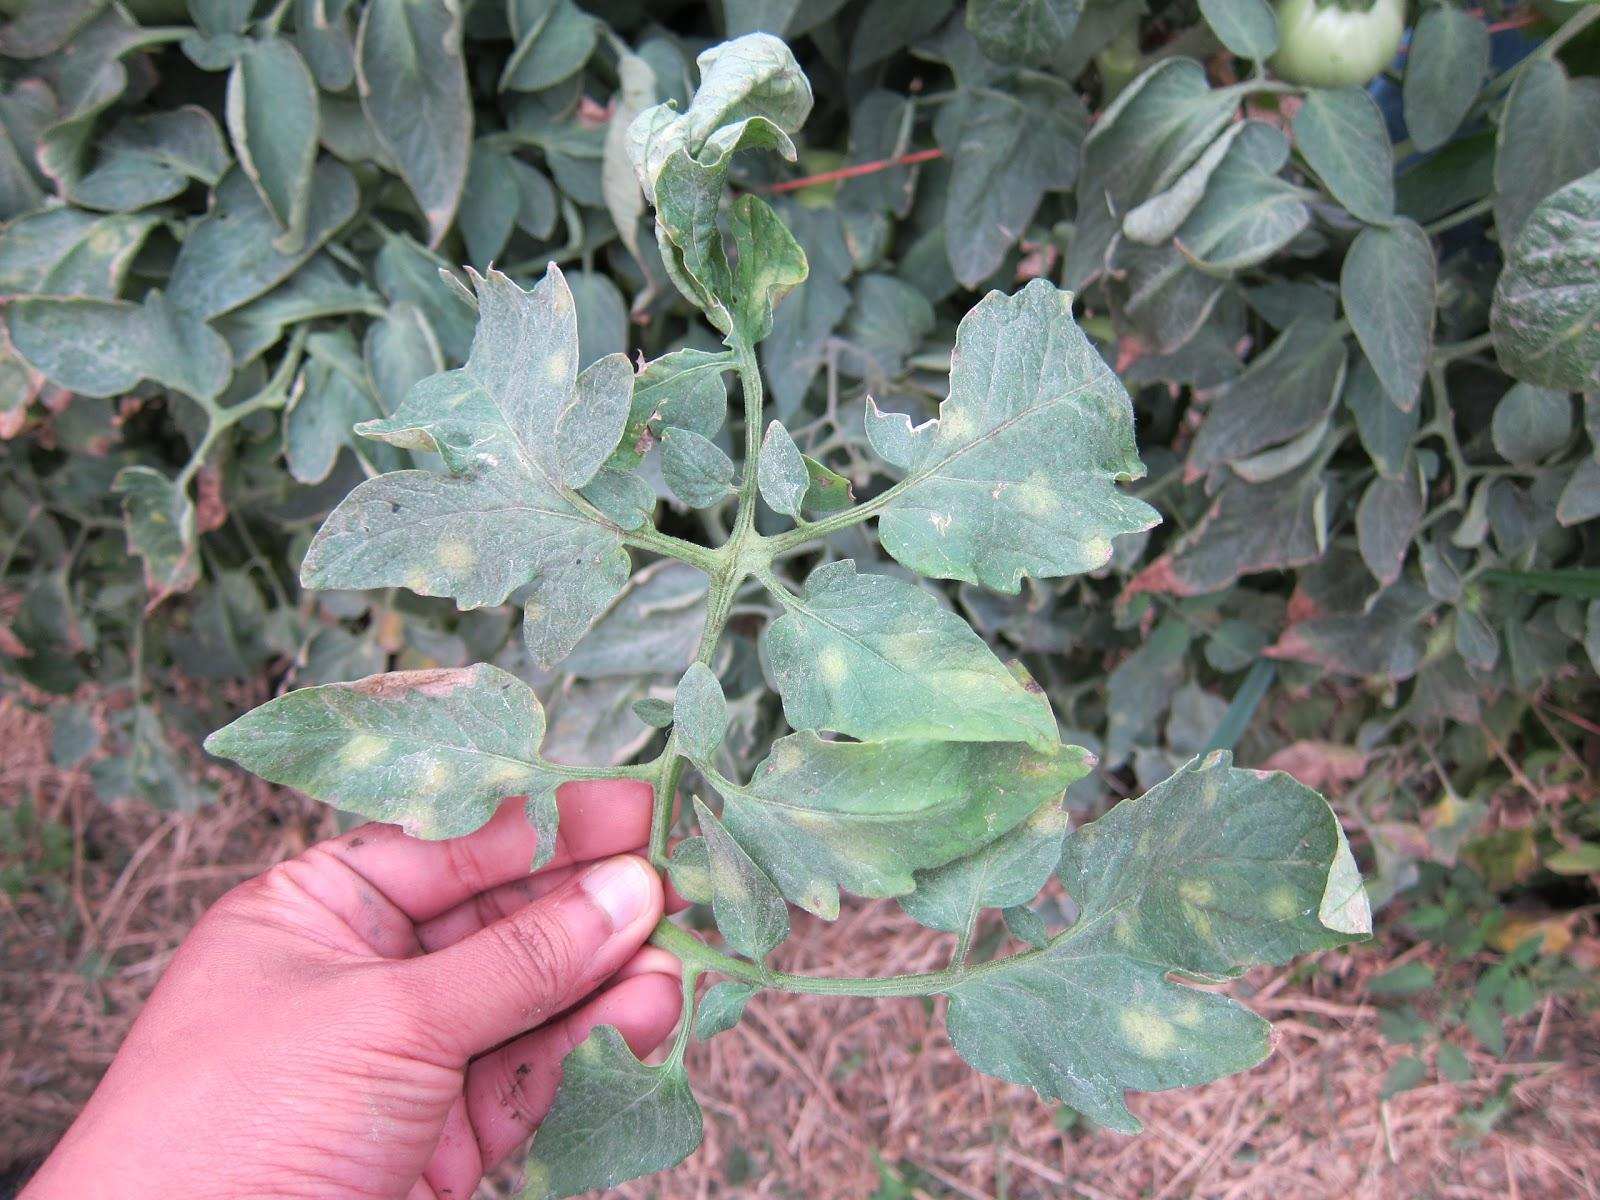Tomato mold leaf: (289, 247, 640, 653), (850, 280, 1167, 596), (183, 621, 559, 860), (1053, 729, 1409, 981), (771, 558, 1080, 843), (690, 753, 1112, 955), (892, 945, 1344, 1131), (624, 26, 823, 342), (506, 1015, 721, 1195)
